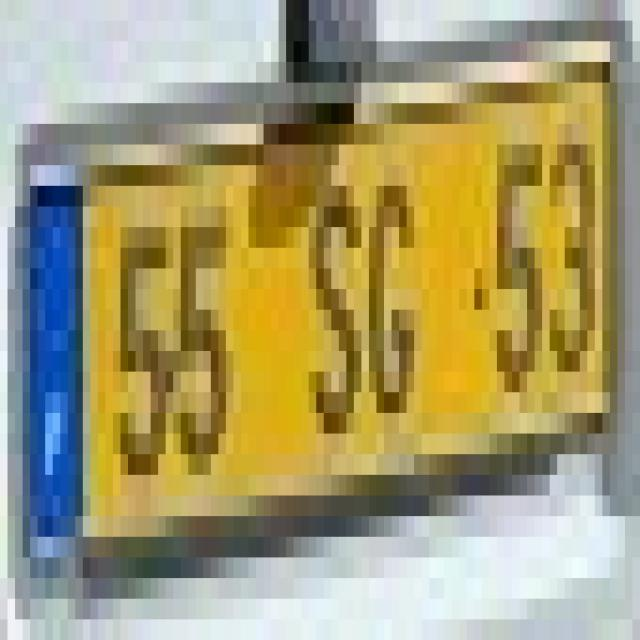EU: (21, 69, 622, 585)
France: (25, 172, 84, 547)
